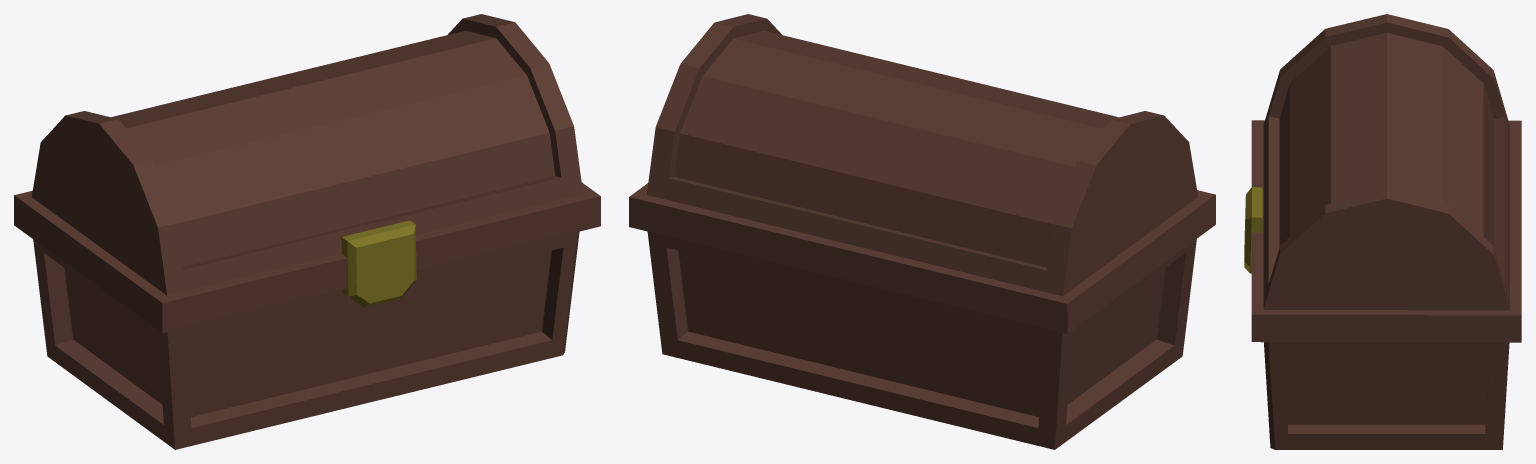
The model's file is Chest.fbx.
The picture shows the model from 3 angles, left to right: view 1: azimuth 30°, elevation 25°; view 2: azimuth 150°, elevation 25°; view 3: azimuth 270°, elevation 25°; orthographic projection. The views are drawn at different scales.
Visible parts, largest first — view 1: Plane.002, Plane.003, Plane.001; view 2: Plane.002, Plane.003; view 3: Plane.002, Plane.003, Plane.001.
Boxes of the visible parts, x1,y1,x2,y2 form: Plane.002: [14, 14, 600, 333]; Plane.003: [33, 231, 579, 449]; Plane.001: [341, 220, 416, 307]; Plane.002: [629, 14, 1215, 333]; Plane.003: [647, 231, 1196, 449]; Plane.002: [1251, 14, 1521, 342]; Plane.003: [1264, 342, 1509, 449]; Plane.001: [1244, 187, 1262, 273].
Bounding box in the file's own units: 211 × 130 × 127.
